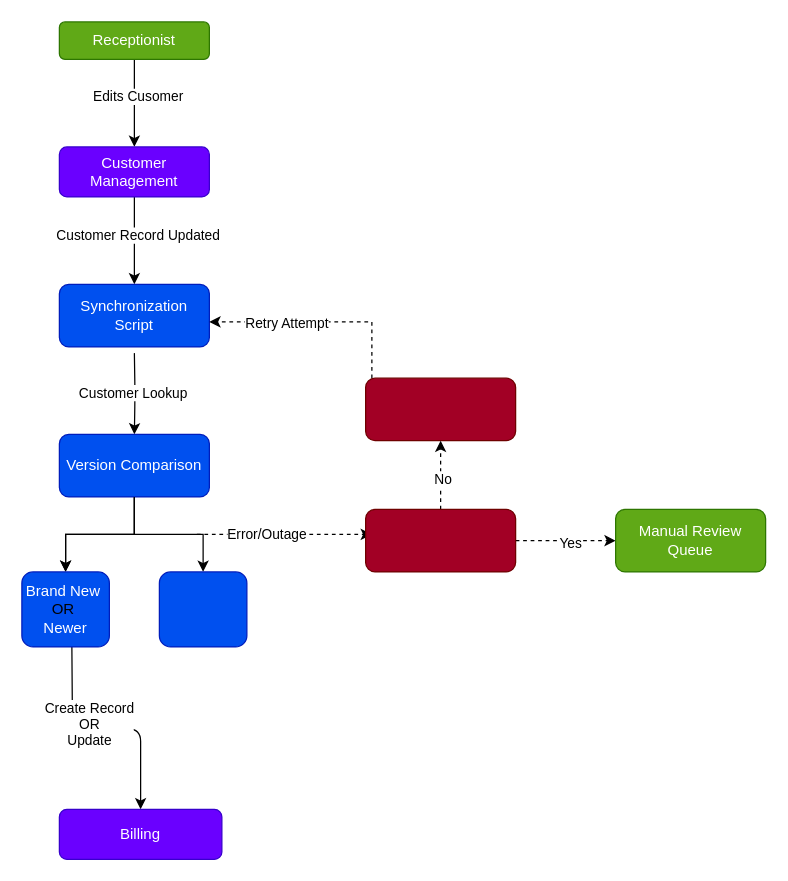
This 788x881 diagram has some shape labels left out. The shapes that lost their labels are listed below. From the top down, each one's centre as x and y in pixels, then its label:
At (x=440, y=409): "Deferred Retry Queue".
At (x=440, y=540): "Retry Attempted?".
At (x=202, y=609): "Up-To-Date".
